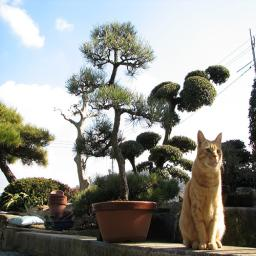catnose: (212, 154, 216, 160)
